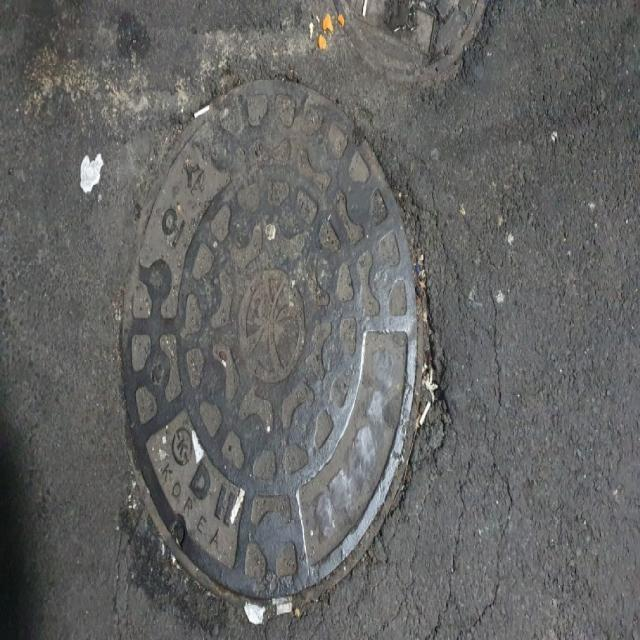manhole: (117, 79, 427, 612)
